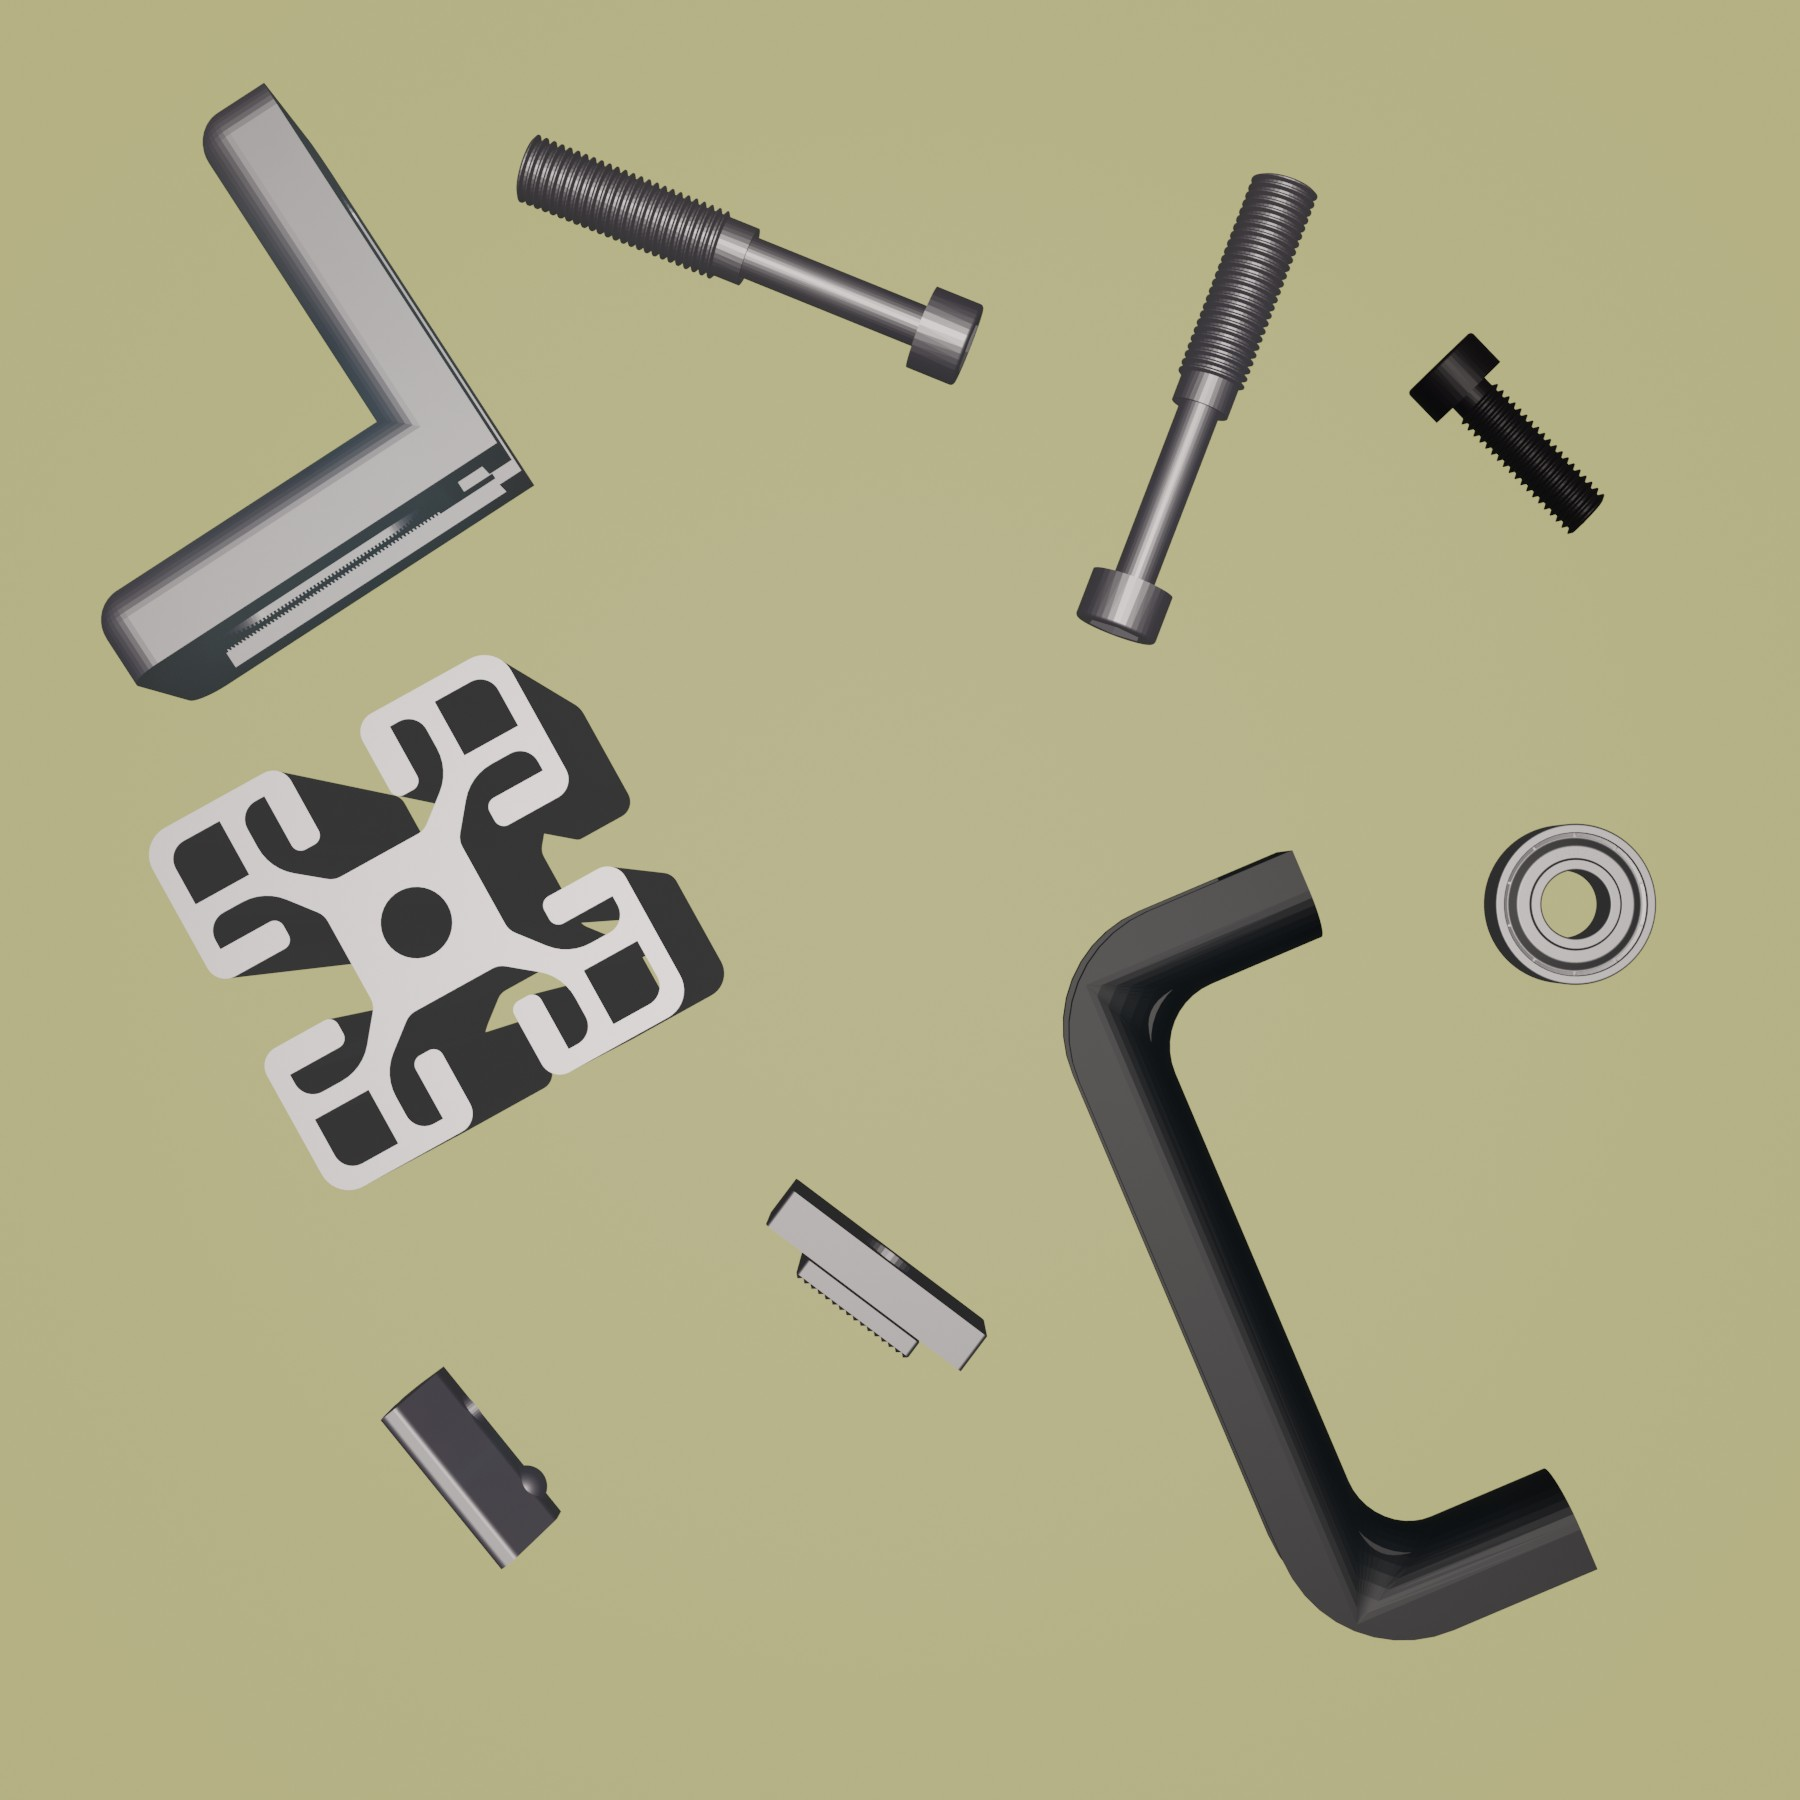Aluminium Extension: (147, 653, 727, 1195)
Ball Bearing: (1482, 819, 1658, 986)
Multiwinkel: (97, 81, 536, 704)
Pull Handle: (1058, 846, 1601, 1642)
Shoulder Socket Head Cap Screw: (513, 132, 986, 389), (1075, 168, 1320, 648)
Socket Head Cap Screw: (1404, 328, 1605, 539)
T Nut Square: (762, 1174, 991, 1376)
T Spring Nut: (374, 1362, 562, 1573)
